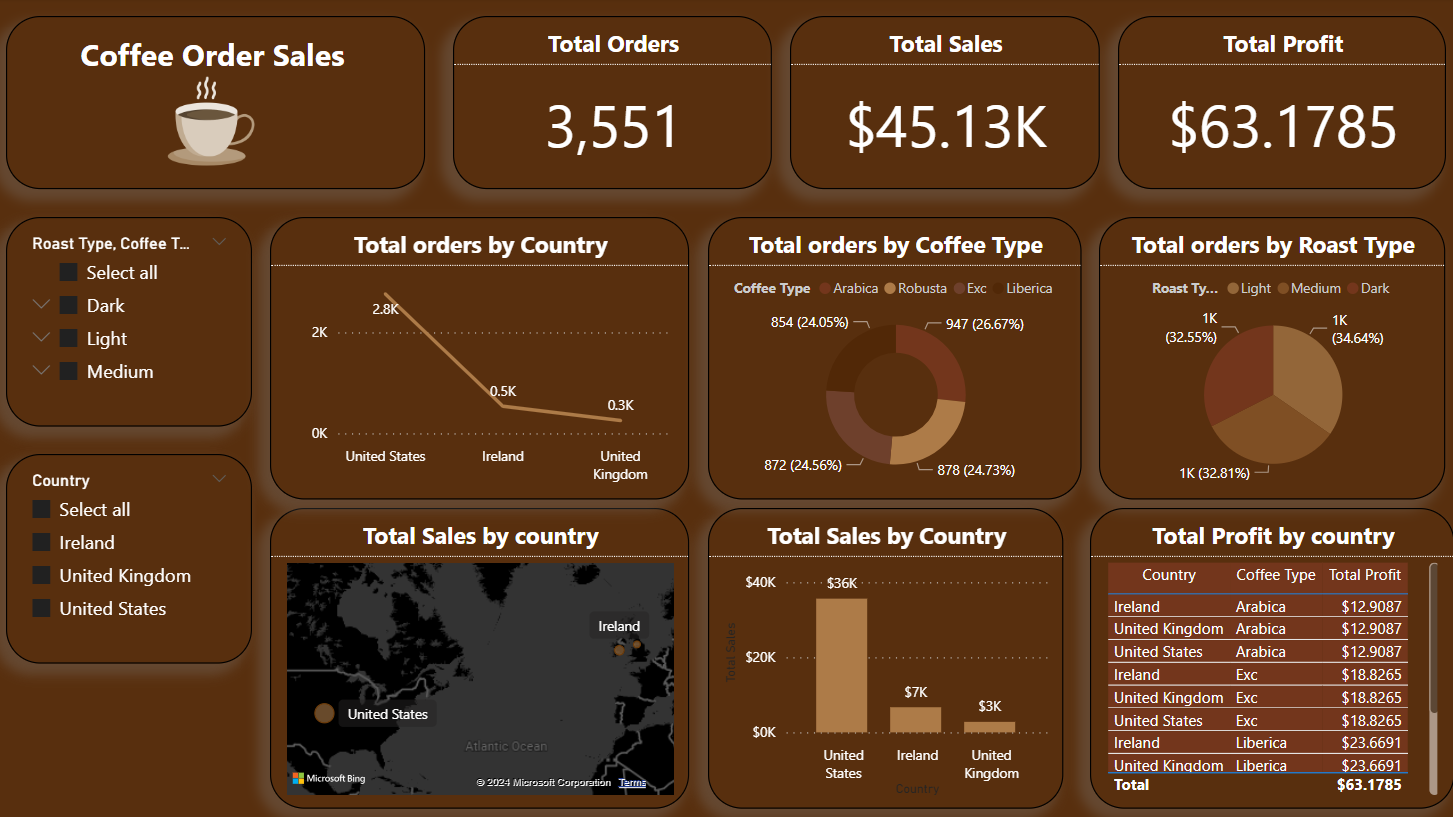

The page's visual inventory and layout, read from the dashboard file:
{"tool":"powerbi","page":{"name":"Page 1","canvas":[1280,720],"ordinal":0},"visuals":[{"type":"card","title":"Total Orders","fields":{"Values":["orders.Total orders"]},"box":[400,16,280,152],"z":0},{"type":"card","title":"Total Sales","fields":{"Values":["orders.Total Sales"]},"box":[696,16,272,152],"z":1},{"type":"card","title":"Total Profit","fields":{"Values":["Sum(products.Profit)"]},"box":[984,16,288,152],"z":2},{"type":"pieChart","fields":{"Y":["orders.Total orders"],"Category":["orders.Roast Type"]},"box":[968,192,304,248],"z":6},{"type":"donutChart","fields":{"Y":["orders.Total orders"],"Category":["products.Coffee Type"]},"box":[624,192,328,248],"z":7},{"type":"tableEx","title":"Total Profit by country","fields":{"Values":["orders.Country","products.Coffee Type","products.Total Profit"]},"box":[960,448,320,264],"z":8},{"type":"textbox","box":[8,16,368,152],"z":9},{"type":"image","box":[136,64,104,88],"z":10},{"type":"map","title":"Total Sales by country","fields":{"Category":["orders.Country"],"Size":["orders.Total Sales"],"Y":["Sum(products.Unit Price)"]},"box":[240,448,368,264],"z":11},{"type":"clusteredColumnChart","fields":{"Category":["orders.Country"],"Y":["orders.Total Sales"]},"box":[624,448,312,264],"z":12},{"type":"lineChart","fields":{"Category":["orders.Country"],"Y":["orders.Total orders"]},"box":[240,192,368,248],"z":13},{"type":"slicer","fields":{"Values":["products.Roast Type","products.Coffee Type"]},"box":[8,192,216,184],"z":14},{"type":"slicer","fields":{"Values":["orders.Country"]},"box":[8,400,216,184],"z":15}]}

Visuals, with their boxes in screenshot pixels (x1, y1, x2, y2), scaled from the page's 1280x720 canvas onto the 1453x817 screenshot:
"Total Orders" card: detection(454, 18, 772, 191)
"Total Sales" card: detection(790, 18, 1099, 191)
"Total Profit" card: detection(1117, 18, 1444, 191)
pieChart - orders.Total orders x orders.Roast Type: detection(1099, 218, 1444, 499)
donutChart - orders.Total orders x products.Coffee Type: detection(708, 218, 1081, 499)
"Total Profit by country" tableEx: detection(1090, 508, 1452, 808)
textbox: detection(9, 18, 427, 191)
image: detection(154, 73, 272, 172)
"Total Sales by country" map: detection(272, 508, 690, 808)
clusteredColumnChart - orders.Country x orders.Total Sales: detection(708, 508, 1063, 808)
lineChart - orders.Country x orders.Total orders: detection(272, 218, 690, 499)
slicer - products.Roast Type x products.Coffee Type: detection(9, 218, 254, 427)
slicer - orders.Country: detection(9, 454, 254, 663)
